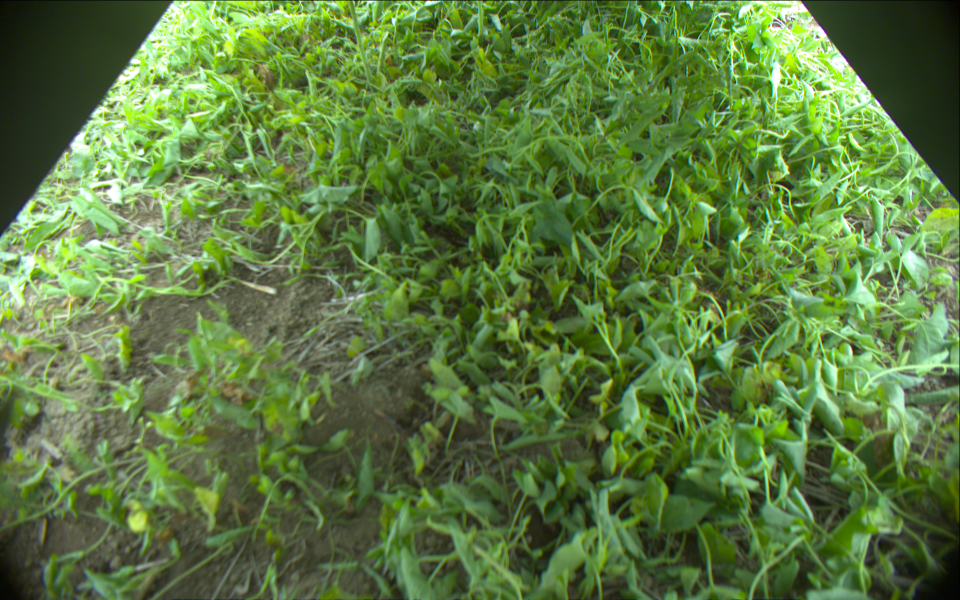aspa: (348, 1, 372, 81), (378, 30, 389, 77), (476, 1, 485, 38)
